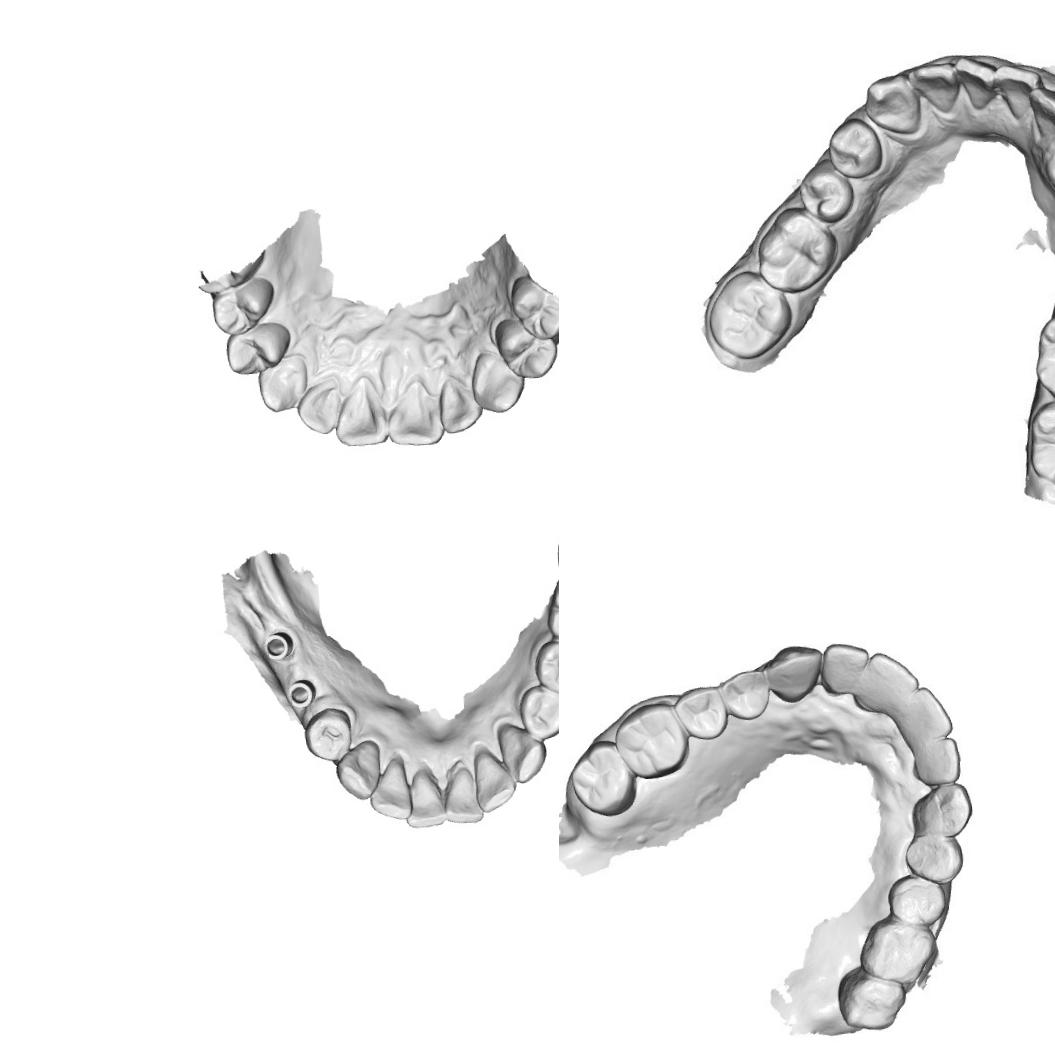canine: (762, 642, 826, 707), (468, 346, 527, 416), (907, 780, 975, 840), (254, 350, 312, 414), (496, 720, 550, 785), (864, 73, 920, 134), (332, 737, 384, 802)
implant: (260, 628, 294, 662), (284, 676, 316, 710)
incisor: (330, 373, 390, 450), (851, 648, 922, 712), (382, 376, 444, 449), (886, 682, 952, 742), (364, 755, 414, 822), (911, 52, 963, 116), (470, 747, 518, 815), (434, 371, 484, 435), (400, 764, 448, 830), (990, 61, 1046, 116), (294, 377, 344, 437), (955, 52, 1004, 112), (909, 733, 963, 786), (440, 762, 484, 825), (819, 640, 872, 692), (1028, 83, 1055, 139)
molar: (705, 266, 796, 365), (856, 910, 940, 989), (611, 699, 690, 781), (758, 212, 832, 292), (566, 740, 639, 820), (832, 962, 905, 1034), (1023, 402, 1055, 495), (1035, 317, 1055, 410), (541, 573, 559, 648)
premolar: (491, 313, 559, 382), (207, 275, 278, 338), (221, 319, 294, 377), (506, 272, 559, 343), (884, 872, 951, 928), (900, 833, 967, 885), (670, 683, 729, 742), (830, 118, 883, 182), (299, 704, 355, 764), (796, 164, 852, 222), (716, 666, 773, 722), (515, 681, 559, 742), (530, 637, 559, 697)
